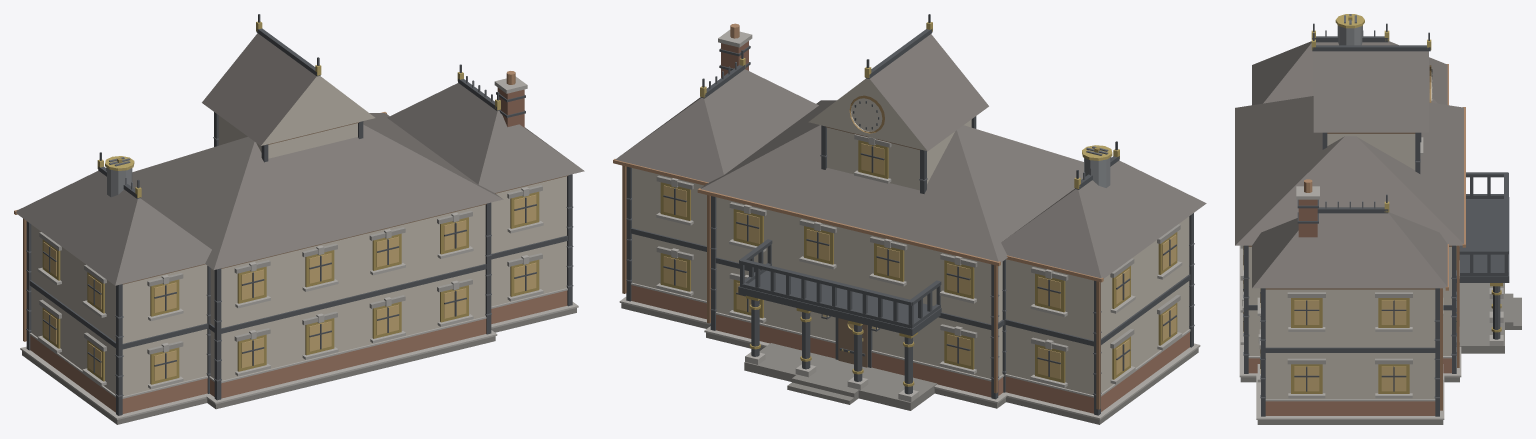
File: casa-n08-268b5c7c.glb
The picture shows the model from 3 angles, left to right: view 1: azimuth 30°, elevation 25°; view 2: azimuth 150°, elevation 25°; view 3: azimuth 270°, elevation 25°; orthographic projection. The views are drawn at different scales.
Parts seen in each view (by area): view 1: casa_n08, casa_n08_glow; view 2: casa_n08, casa_n08_glow; view 3: casa_n08, casa_n08_glow.
Part boxes in pixels (x1,y1,x2,y2): casa_n08: [14, 14, 584, 424]; casa_n08_glow: [43, 194, 536, 380]; casa_n08: [613, 14, 1206, 424]; casa_n08_glow: [663, 143, 1176, 379]; casa_n08: [1235, 14, 1521, 424]; casa_n08_glow: [1243, 246, 1456, 391].
Bounding box in the file's own units: 18.8 × 11.09 × 10.2.
